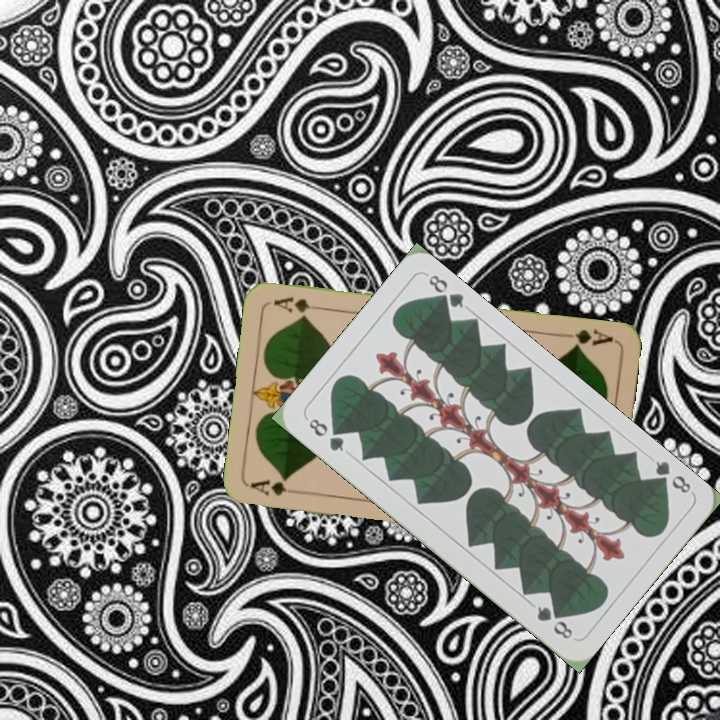G8: (302, 414, 347, 455), (648, 456, 694, 496)
GA: (556, 325, 616, 351), (247, 475, 306, 499)
